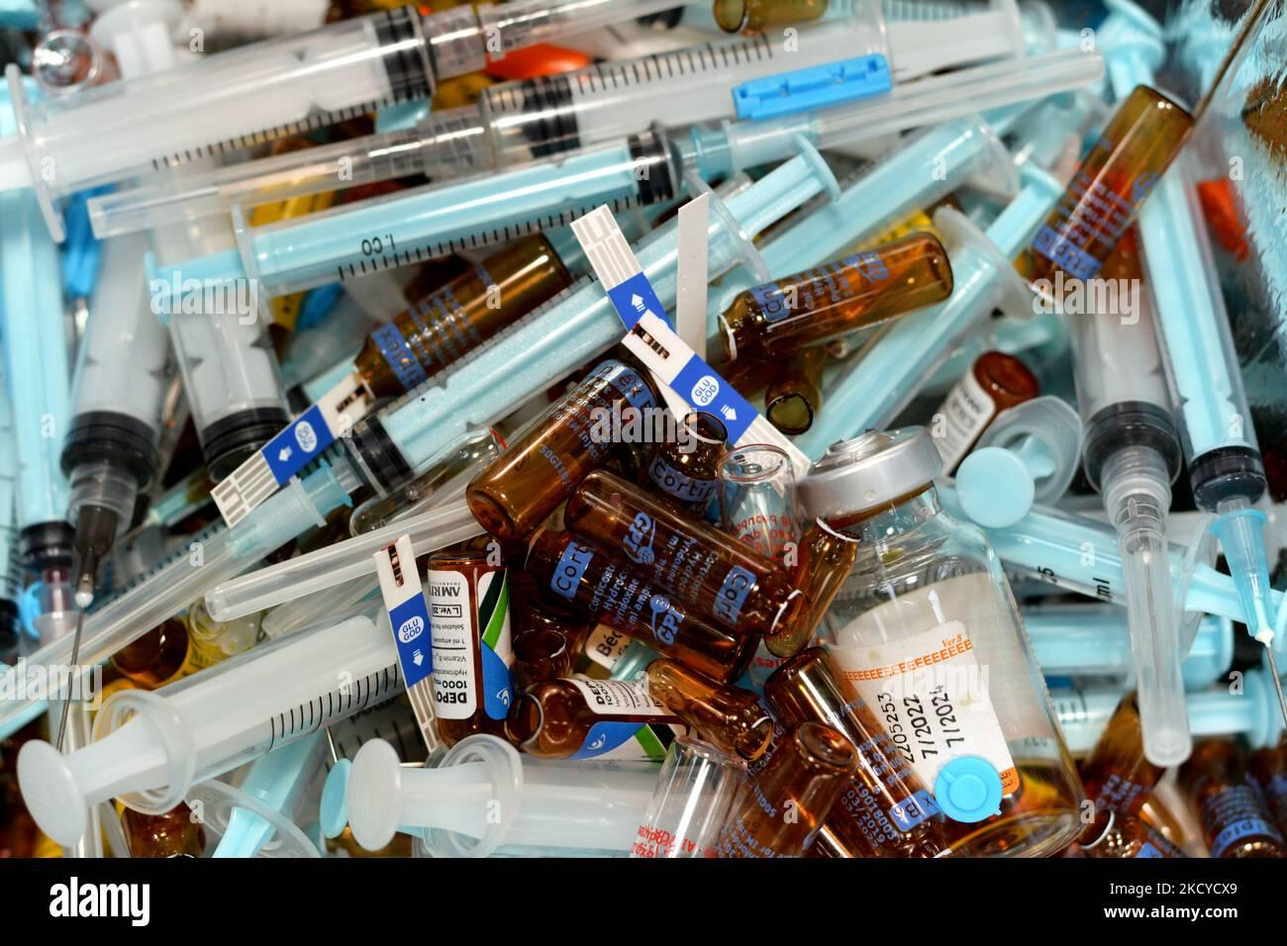Iv_Bottle: (800, 426, 1081, 855), (564, 471, 807, 636), (764, 648, 946, 857), (527, 529, 756, 683), (354, 236, 570, 397), (466, 360, 655, 541), (1032, 86, 1192, 296), (719, 233, 952, 360), (716, 721, 857, 857), (1078, 691, 1185, 858), (426, 541, 513, 746), (506, 677, 681, 761), (645, 658, 773, 761), (111, 600, 259, 689), (932, 351, 1039, 474), (1179, 739, 1286, 858), (1079, 691, 1163, 815), (641, 413, 727, 516), (765, 345, 829, 435), (185, 599, 260, 667), (1081, 811, 1186, 858), (122, 803, 204, 857), (511, 629, 573, 691), (713, 0, 828, 33), (1247, 740, 1286, 831)
Syringe: (154, 50, 1101, 296), (82, 278, 622, 661), (89, 25, 864, 236), (0, 0, 679, 240), (18, 604, 402, 843), (796, 165, 1060, 456), (1138, 159, 1282, 663), (1139, 161, 1281, 651), (1031, 0, 1275, 281), (1072, 234, 1190, 766), (344, 277, 621, 493), (346, 278, 623, 487), (760, 102, 1058, 277), (206, 470, 484, 620), (61, 235, 172, 606), (345, 734, 658, 856), (134, 269, 287, 480), (0, 192, 73, 581), (984, 507, 1126, 605), (1185, 669, 1283, 746), (238, 732, 324, 817), (0, 368, 23, 663), (1181, 615, 1234, 691)
